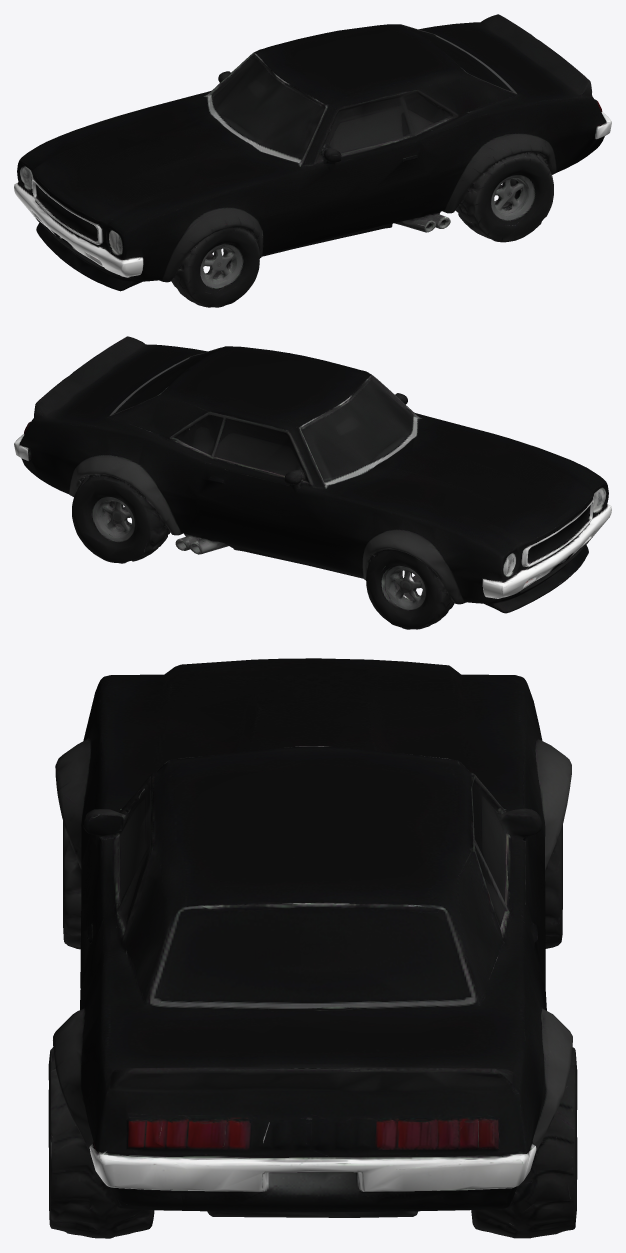
Rendered from vehicle-thunder.glb.
3 views of the same model, one above another, from view 1: azimuth 30°, elevation 25°; view 2: azimuth 150°, elevation 25°; view 3: azimuth 270°, elevation 25° (orthographic). The views are drawn at different scales.
Visible parts, largest first — view 1: Mesh_0; view 2: Mesh_0; view 3: Mesh_0.
Part boxes in pixels (x1,y1,x2,y2): Mesh_0: (14,14,611,307); Mesh_0: (14,336,611,629); Mesh_0: (48,658,577,1238).
Bounding box in the file's own units: 1.9 × 0.5793 × 0.8599.
Materials: 1 (1 with a texture image).
